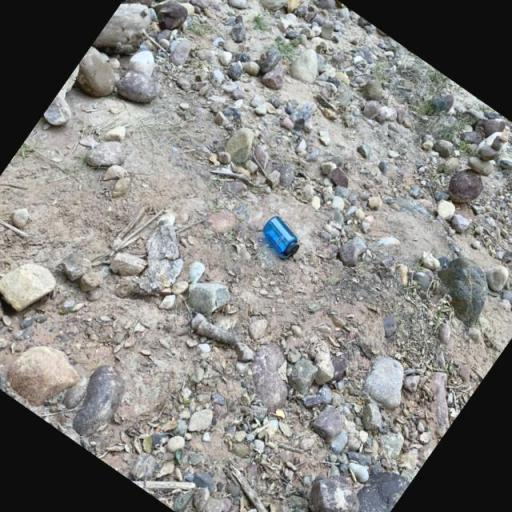bottle: (254, 213, 306, 264)
